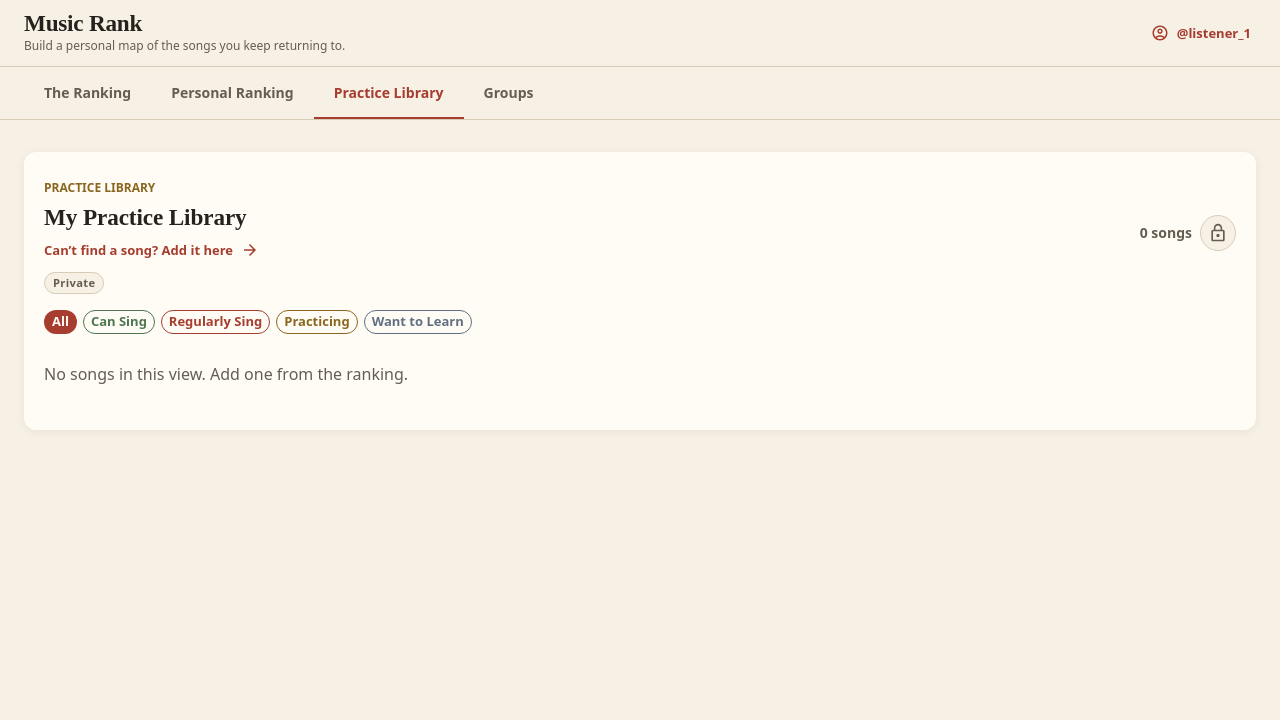
Test: /practice › adds a new unlisted song to Practice Library
Check: the heading "My Practice Library" is shown, box [44,204,257,231]
Click the button "Can’t find a song? Add it here": (150, 250) [44,235,257,265]
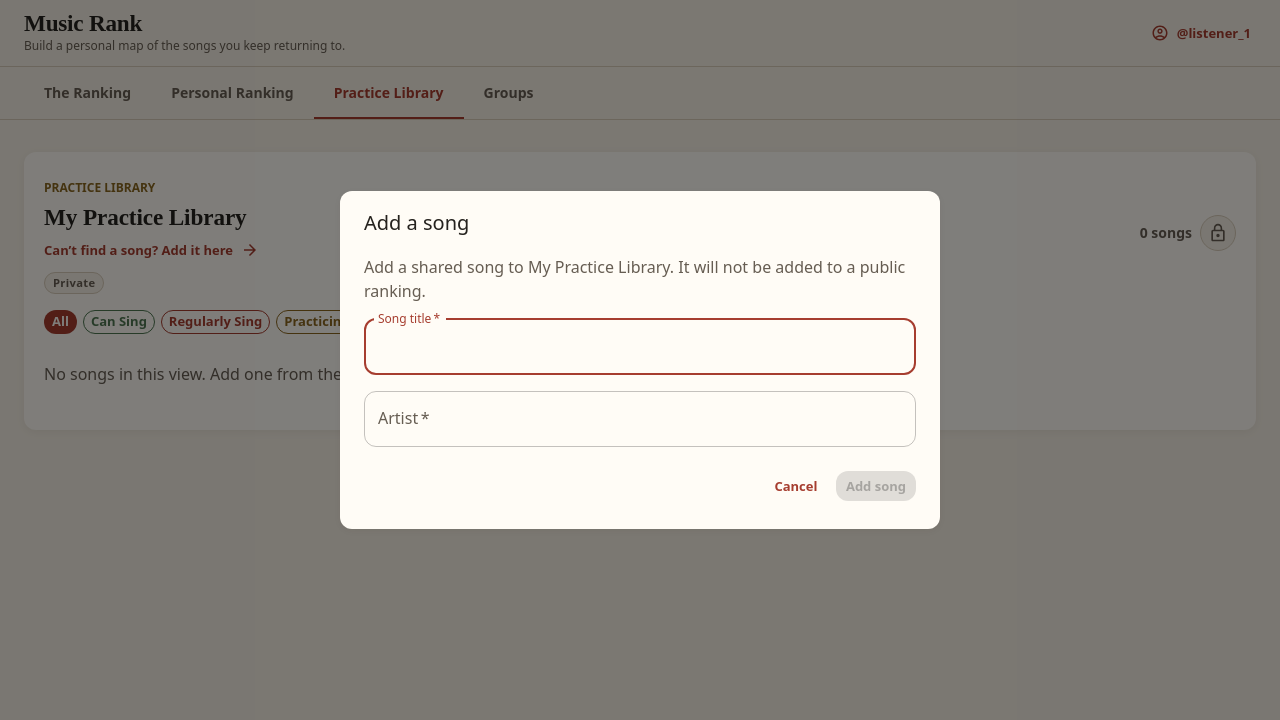
In the field labelled "Song title": (640, 347) [364,319,916,375], type "New Practice Song"
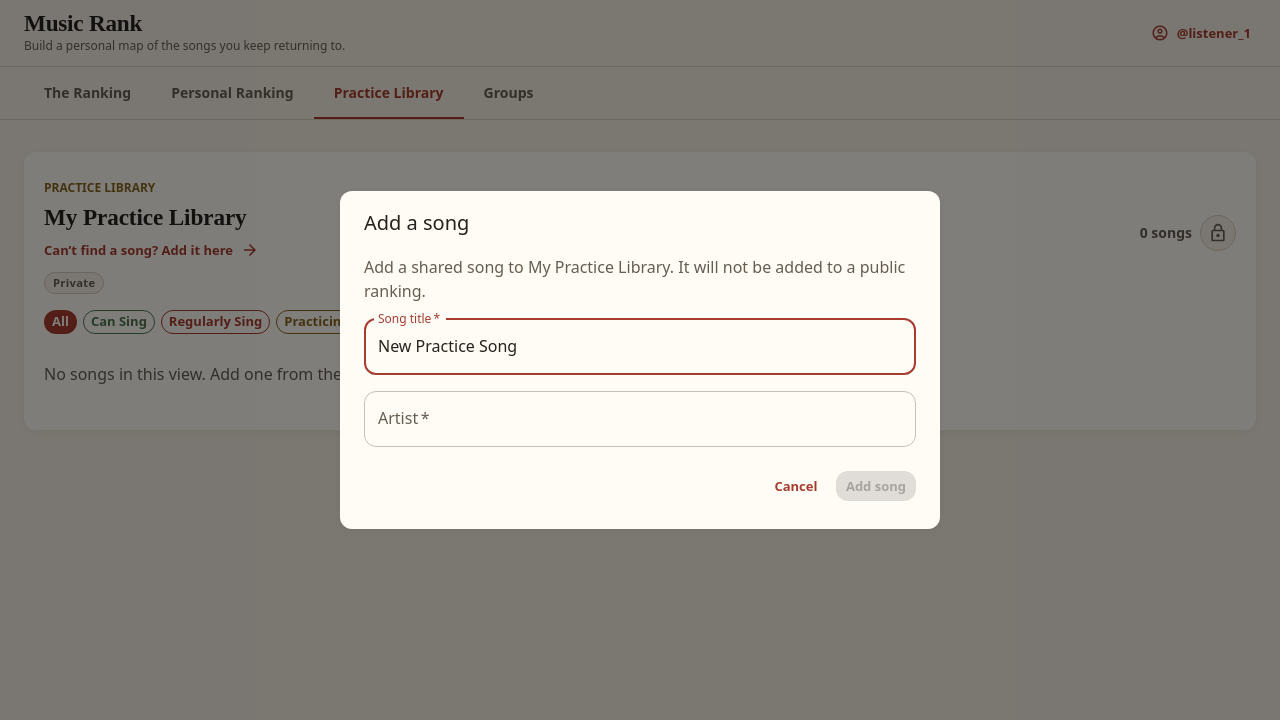
In the field labelled "Artist": (640, 419) [364,391,916,447], type "New Artist"
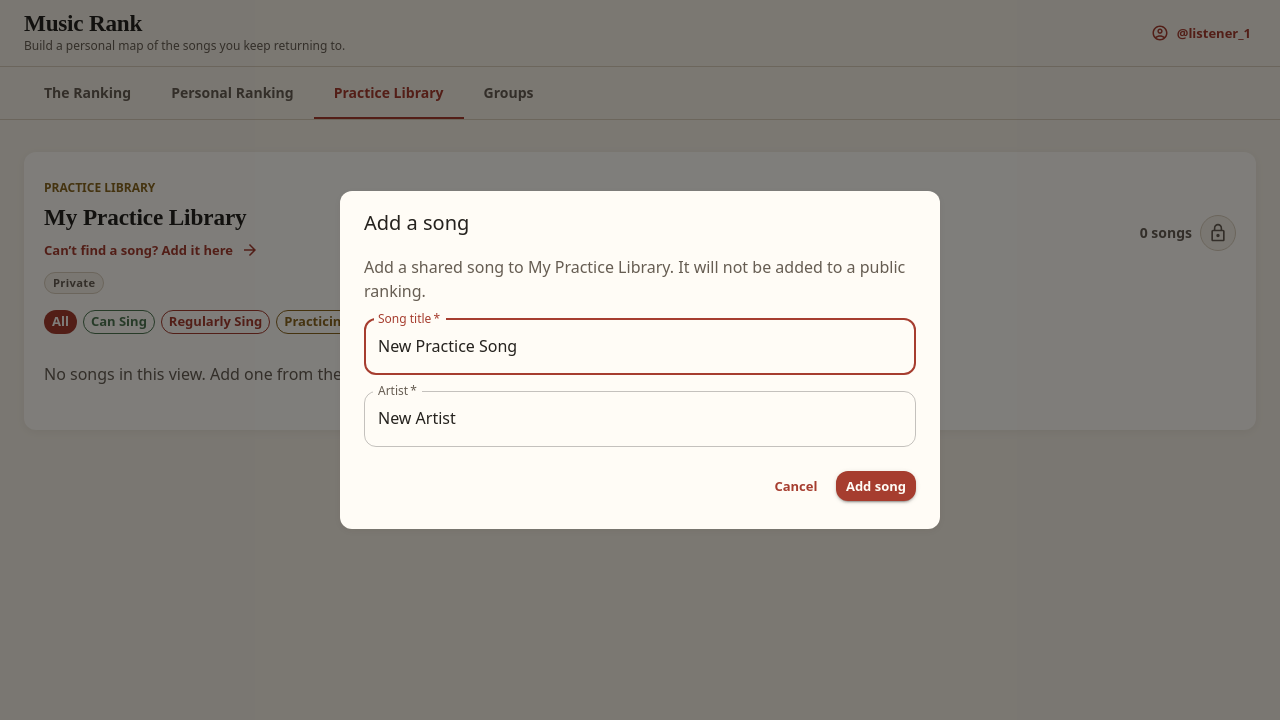
Click the button "Add song": (876, 486) [836,471,916,501]
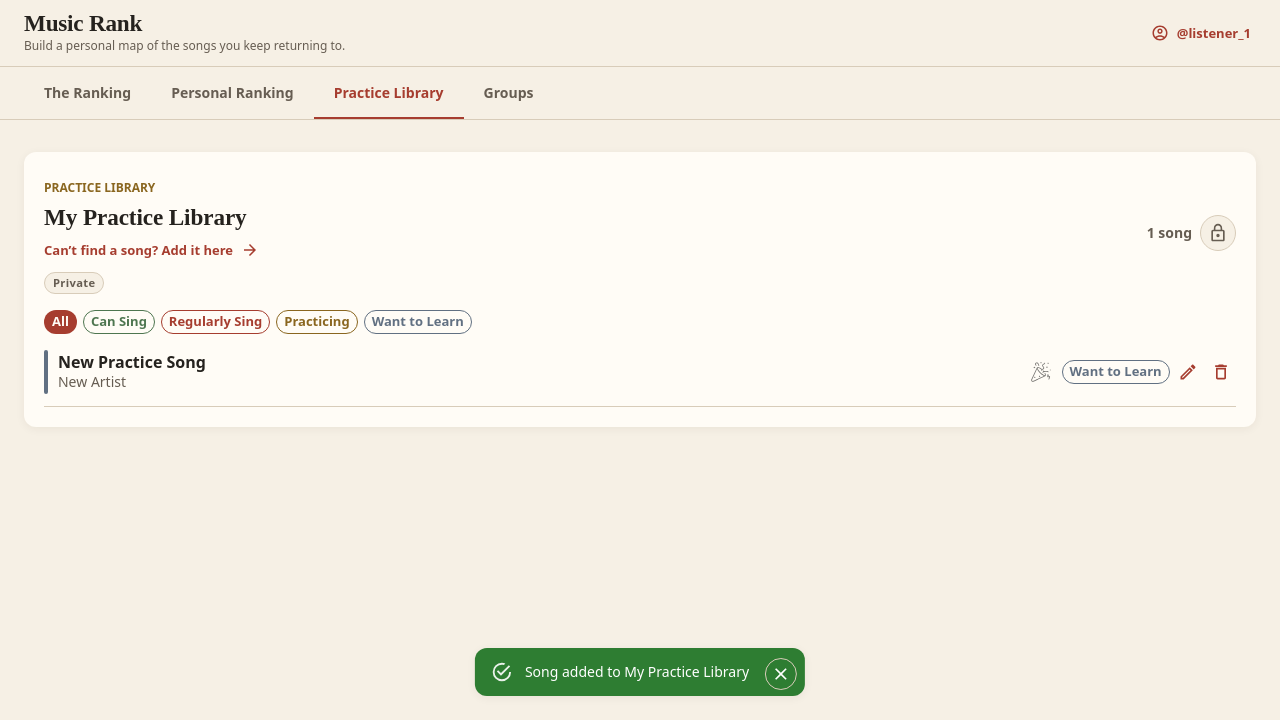
Check: the text "New Practice Song" is shown, box [58,351,206,373]
